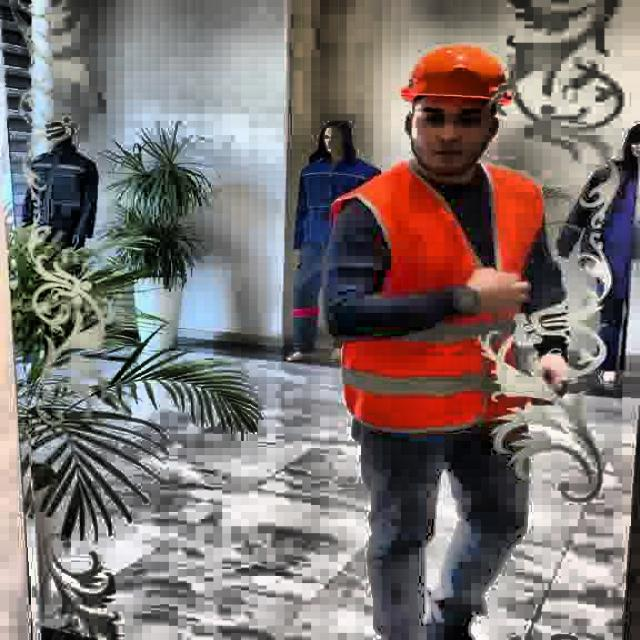safety_helmet: (396, 45, 514, 105)
safety_jacket: (327, 162, 547, 434)
